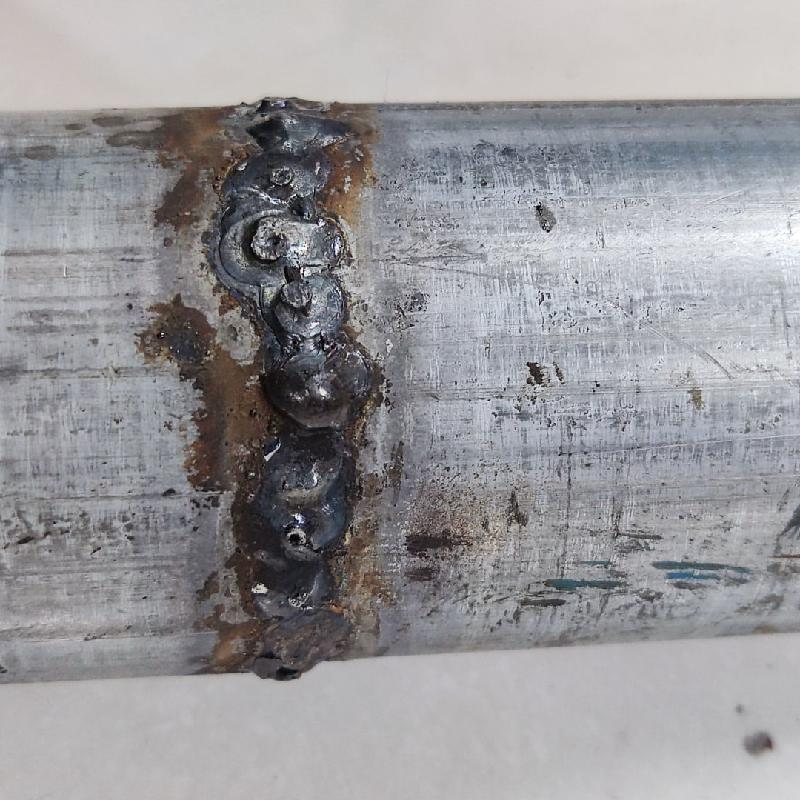Surface_pores: (259, 647, 308, 689)
Weld: (247, 353, 367, 433)
wrong_size: (227, 85, 370, 350), (237, 431, 355, 685)
